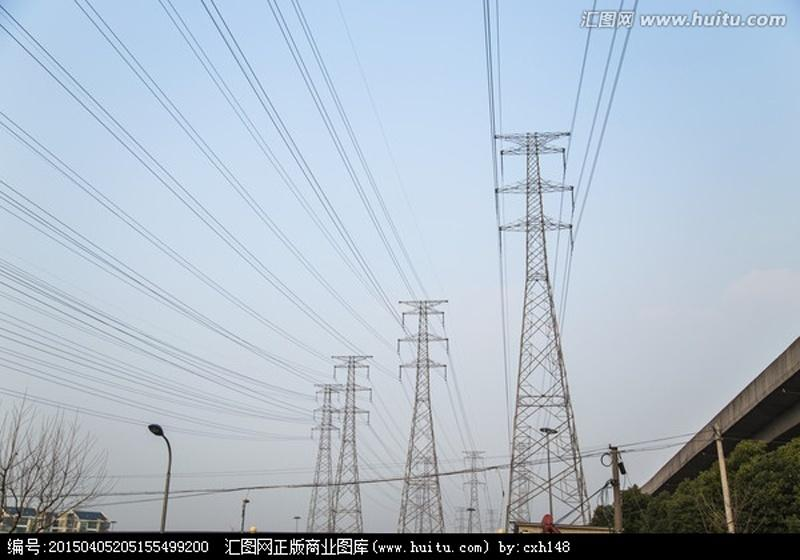power_tower: (493, 121, 602, 522), (399, 288, 447, 537), (328, 345, 378, 530)
